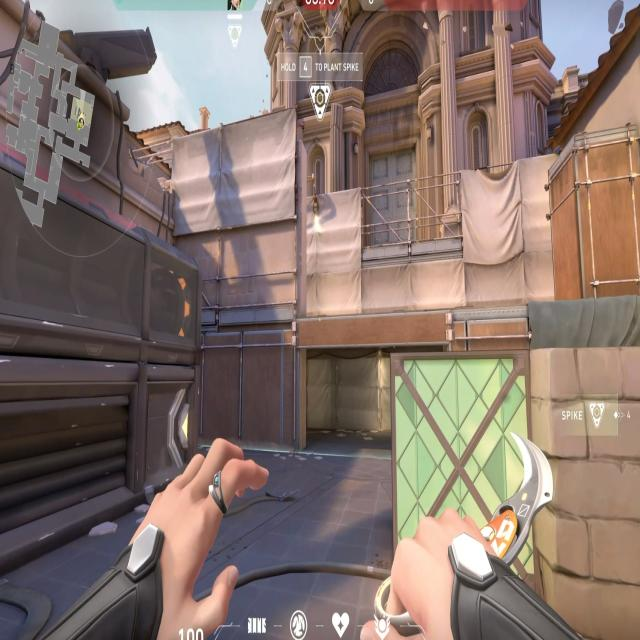A_Heaven_Box: (537, 111, 640, 302)
A_Heaven_Wall: (165, 115, 323, 325)
A_Hell: (286, 301, 463, 473)
A_Site_Box: (373, 325, 640, 626)
